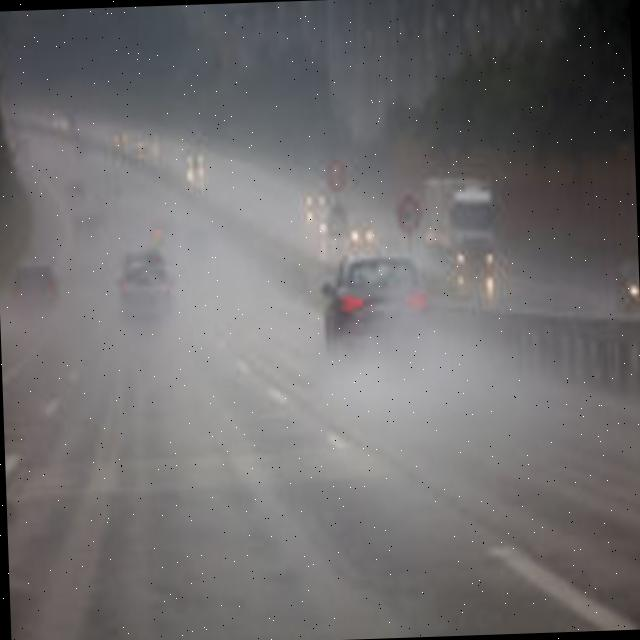bus: (424, 177, 496, 290)
car: (321, 252, 428, 371), (116, 244, 172, 313), (10, 264, 64, 318), (610, 253, 640, 310), (348, 217, 376, 246)
